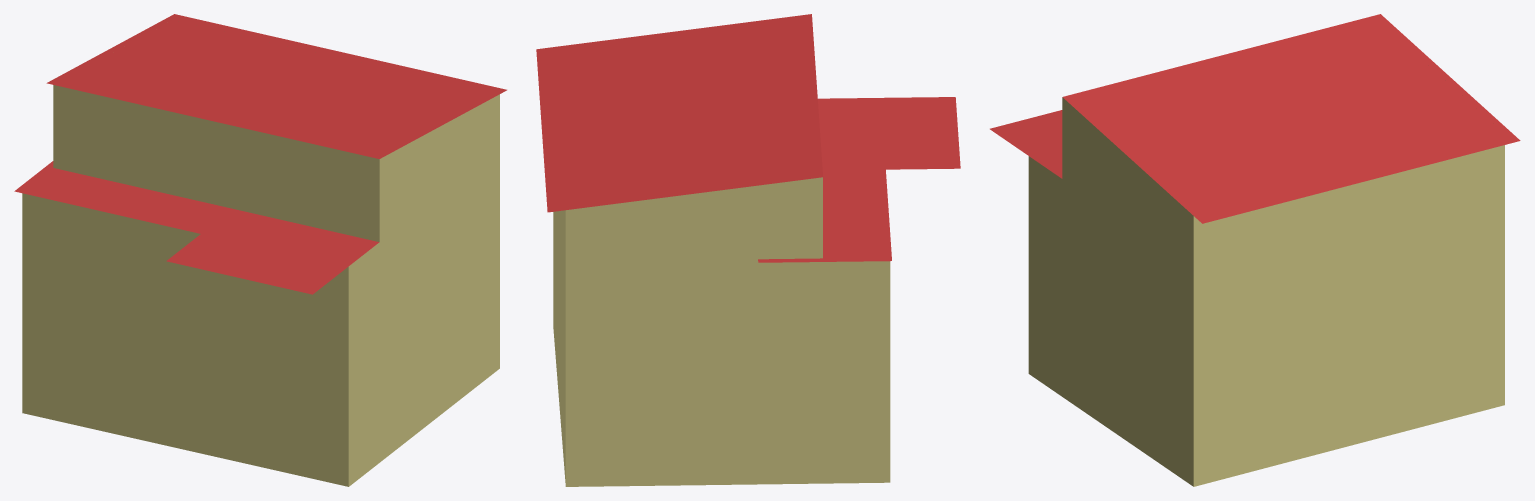
3 views of the same model, side by side, from view 1: azimuth 30°, elevation 25°; view 2: azimuth 150°, elevation 25°; view 3: azimuth 270°, elevation 25° (orthographic). The views are drawn at different scales.
Size of the model in its own units: 18.23 by 20.18 by 12.56.
